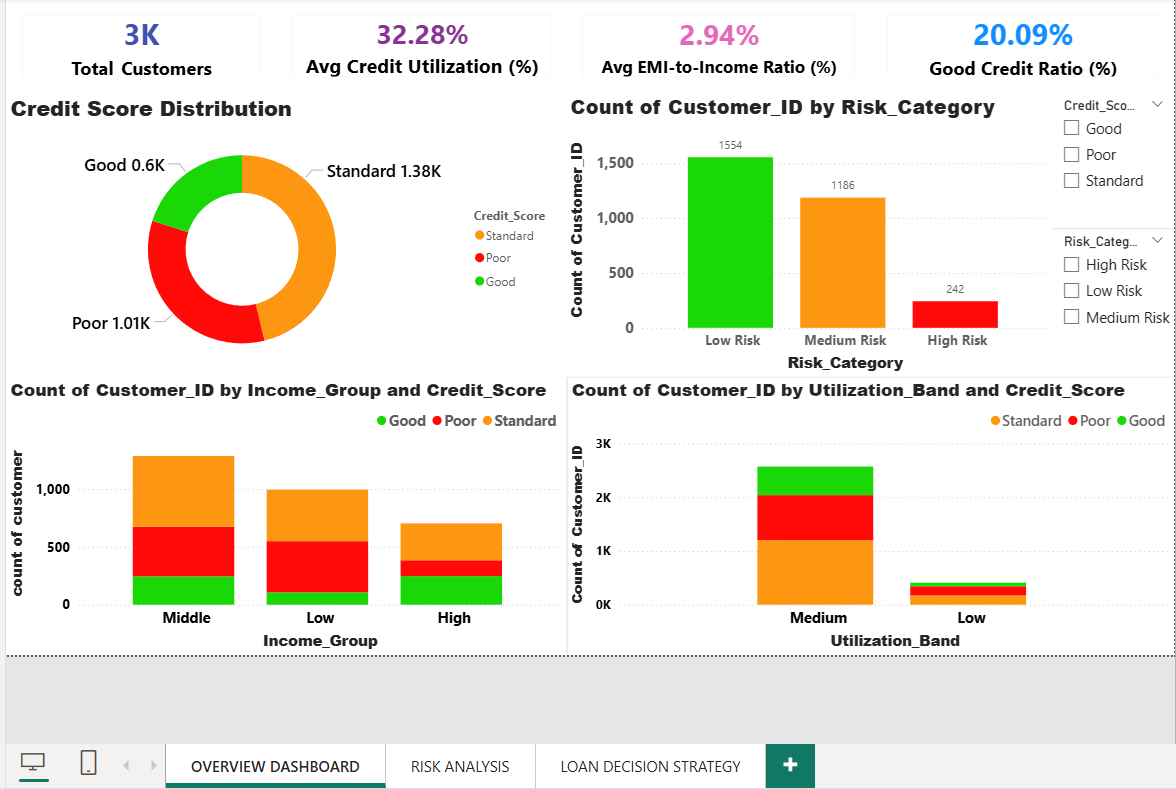

What the dashboard file says about the page in this screenshot:
{"tool":"powerbi","page":{"name":"OVERVIEW DASHBOARD","canvas":[1280,720],"ordinal":0},"visuals":[{"type":"donutChart","title":"Credit Score Distribution","fields":{"Category":["credit_risk_customer_level.Credit_Score"],"Y":["CountNonNull(credit_risk_customer_level.Customer_ID)"]},"box":[0,104.1,613.4,310.8],"z":0},{"type":"columnChart","fields":{"Category":["credit_risk_customer_level.Risk_Category"],"Y":["CountNonNull(credit_risk_customer_level.Customer_ID)"]},"box":[613.4,104.1,532.7,310.8],"z":1000},{"type":"lineStackedColumnComboChart","fields":{"Category":["credit_risk_customer_level.Income_Group"],"Y":["CountNonNull(credit_risk_customer_level.Customer_ID)"],"Series":["credit_risk_customer_level.Credit_Score"]},"box":[0,414.9,613.4,305.3],"z":2000},{"type":"columnChart","fields":{"Category":["credit_risk_customer_level.Utilization_Band"],"Y":["CountNonNull(credit_risk_customer_level.Customer_ID)"],"Series":["credit_risk_customer_level.Credit_Score"]},"box":[614.8,414.9,665.5,305.3],"z":3000},{"type":"slicer","fields":{"Values":["credit_risk_customer_level.Credit_Score"]},"box":[1146.1,104.1,134.2,147.9],"z":4000},{"type":"slicer","fields":{"Values":["credit_risk_customer_level.Risk_Category"]},"box":[1146.1,253.3,134.2,161.6],"z":5000},{"type":"cardVisual","fields":{"Data":["credit_risk_customer_level.Avg EMI-to-Income Ratio (%)"]},"box":[613.4,0,334.1,104.1],"z":6000},{"type":"cardVisual","fields":{"Data":["credit_risk_customer_level.Total_Customers"]},"box":[0,0,295.8,104.1],"z":7000},{"type":"cardVisual","fields":{"Data":["credit_risk_customer_level.Avg Credit Utilization (%)"]},"box":[295.8,0,319,104.1],"z":8000},{"type":"cardVisual","fields":{"Data":["credit_risk_customer_level.Good Credit Ratio (%)"]},"box":[947.5,0,332.7,104.1],"z":8001}]}

Visuals, with their boxes on the page's 1280x720 design canvas (x1, y1, x2, y2). These are canvas units, not pixel positions in the 1176x789 screenshot, which may show the page scaled, cropped or inside an application window:
"Credit Score Distribution" donutChart: left=0, top=104, right=613, bottom=415
columnChart - credit_risk_customer_level.Risk_Category x CountNonNull(credit_risk_customer_level.Customer_ID): left=613, top=104, right=1146, bottom=415
lineStackedColumnComboChart - credit_risk_customer_level.Income_Group x CountNonNull(credit_risk_customer_level.Customer_ID): left=0, top=415, right=613, bottom=720
columnChart - credit_risk_customer_level.Utilization_Band x CountNonNull(credit_risk_customer_level.Customer_ID): left=615, top=415, right=1280, bottom=720
slicer - credit_risk_customer_level.Credit_Score: left=1146, top=104, right=1280, bottom=252
slicer - credit_risk_customer_level.Risk_Category: left=1146, top=253, right=1280, bottom=415
cardVisual - credit_risk_customer_level.Avg EMI-to-Income Ratio (%): left=613, top=0, right=948, bottom=104
cardVisual - credit_risk_customer_level.Total_Customers: left=0, top=0, right=296, bottom=104
cardVisual - credit_risk_customer_level.Avg Credit Utilization (%): left=296, top=0, right=615, bottom=104
cardVisual - credit_risk_customer_level.Good Credit Ratio (%): left=948, top=0, right=1280, bottom=104
